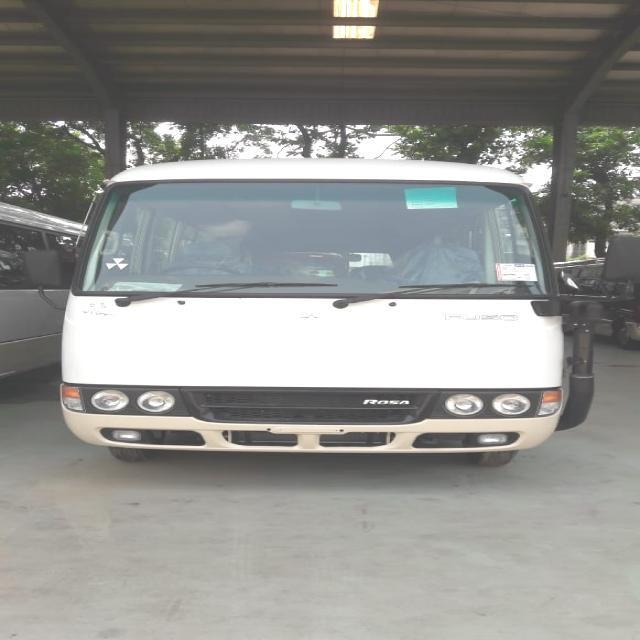Bus: (34, 134, 640, 486)
